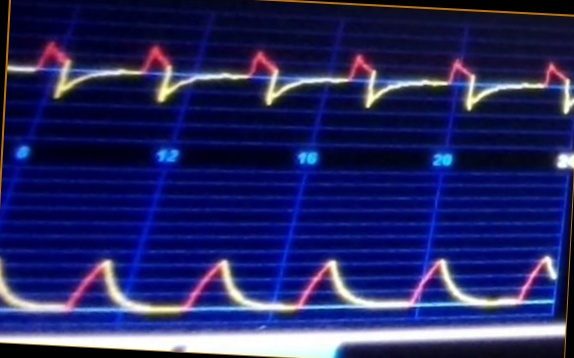Accumulation Flow: (10, 28, 574, 140)
Volume: (1, 220, 560, 321)
